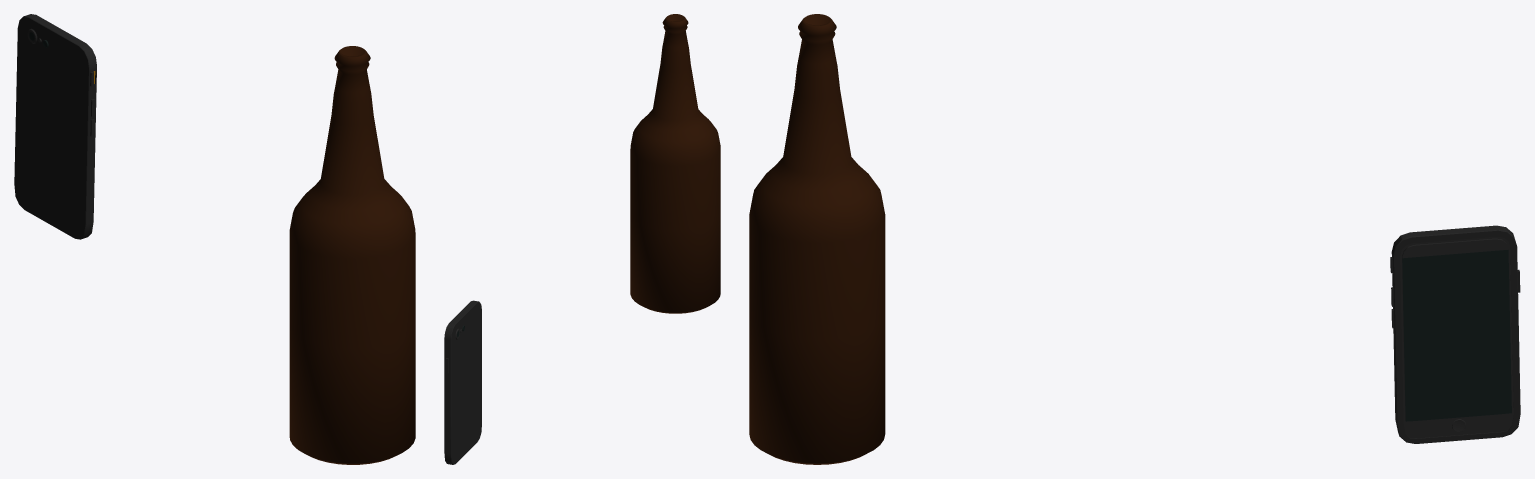
Rendered from ted-props.glb.
3 renders of one model, left to right at view 1: azimuth 30°, elevation 25°; view 2: azimuth 150°, elevation 25°; view 3: azimuth 270°, elevation 25°, orthographic. The views are drawn at different scales.
Parts seen in each view (by area): view 1: Cylinder, pCube1; view 2: Cylinder, pCube1; view 3: Cylinder, pCube1.
Boxes of the visible parts, x1,y1,x2,y2 form: Cylinder: (289, 46, 415, 464); pCube1: (14, 14, 96, 239); Cylinder: (630, 14, 720, 313); pCube1: (444, 300, 481, 464); Cylinder: (749, 14, 885, 464); pCube1: (1391, 225, 1520, 443).
Bounding box in the file's own units: 0.7285 × 2.49 × 4.13.
